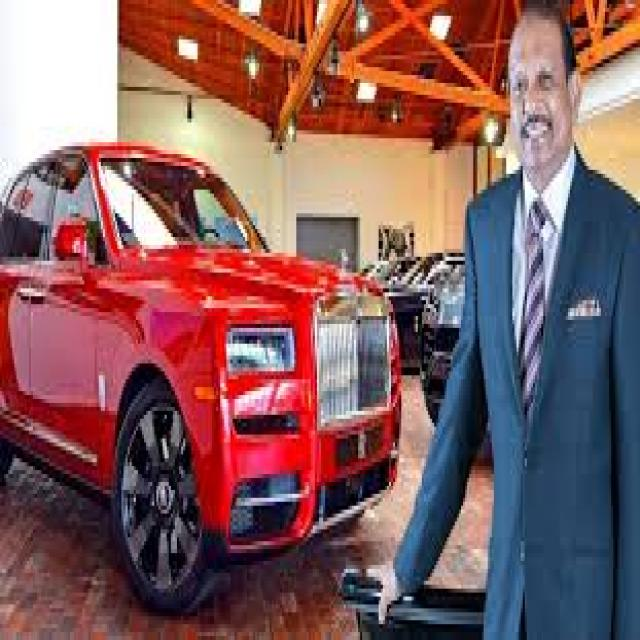car: (0, 146, 396, 601)
person: (407, 8, 640, 632)
